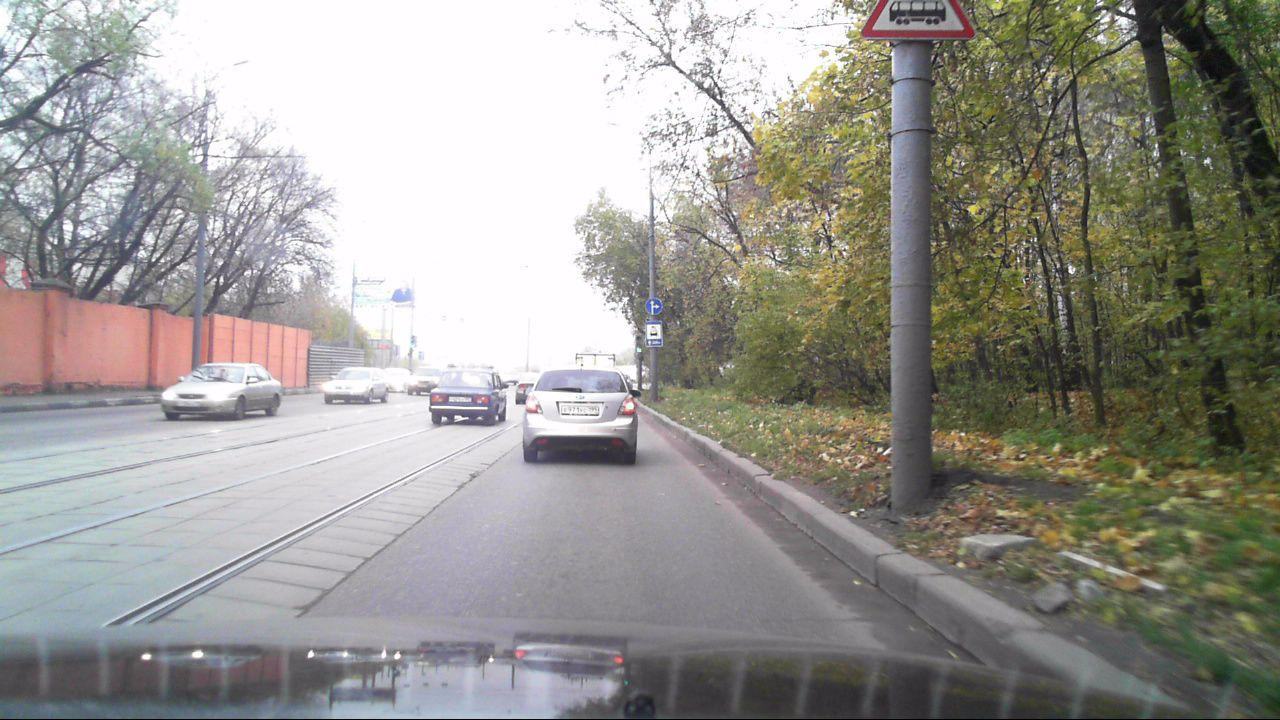1_5: (860, 0, 978, 41)
4_1_4: (645, 296, 664, 315)
7_5: (645, 319, 663, 347)
